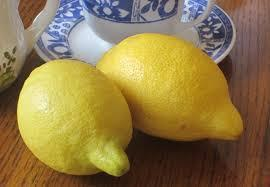lemon: (95, 33, 243, 141), (16, 60, 132, 178)
